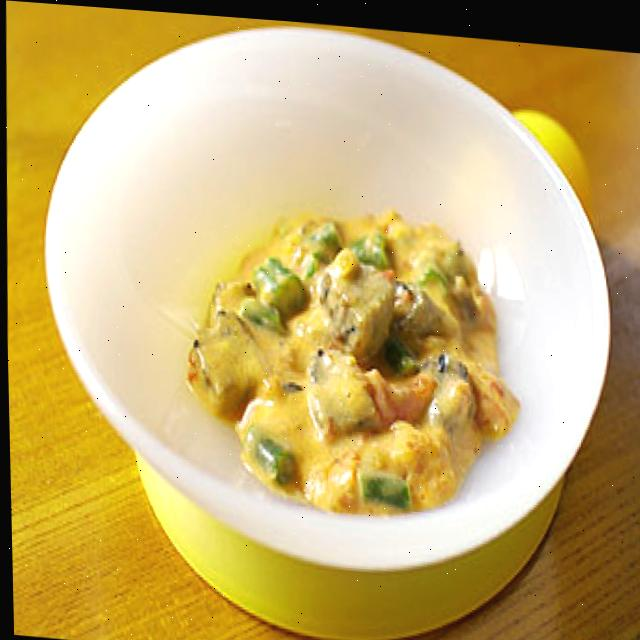汤锅炖物: (22, 1, 636, 640)
